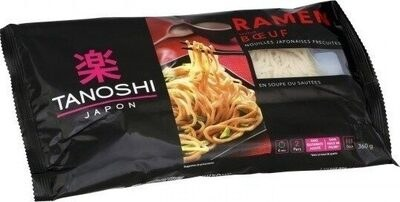Ramen saveur boeuf: (20, 10, 380, 192)
